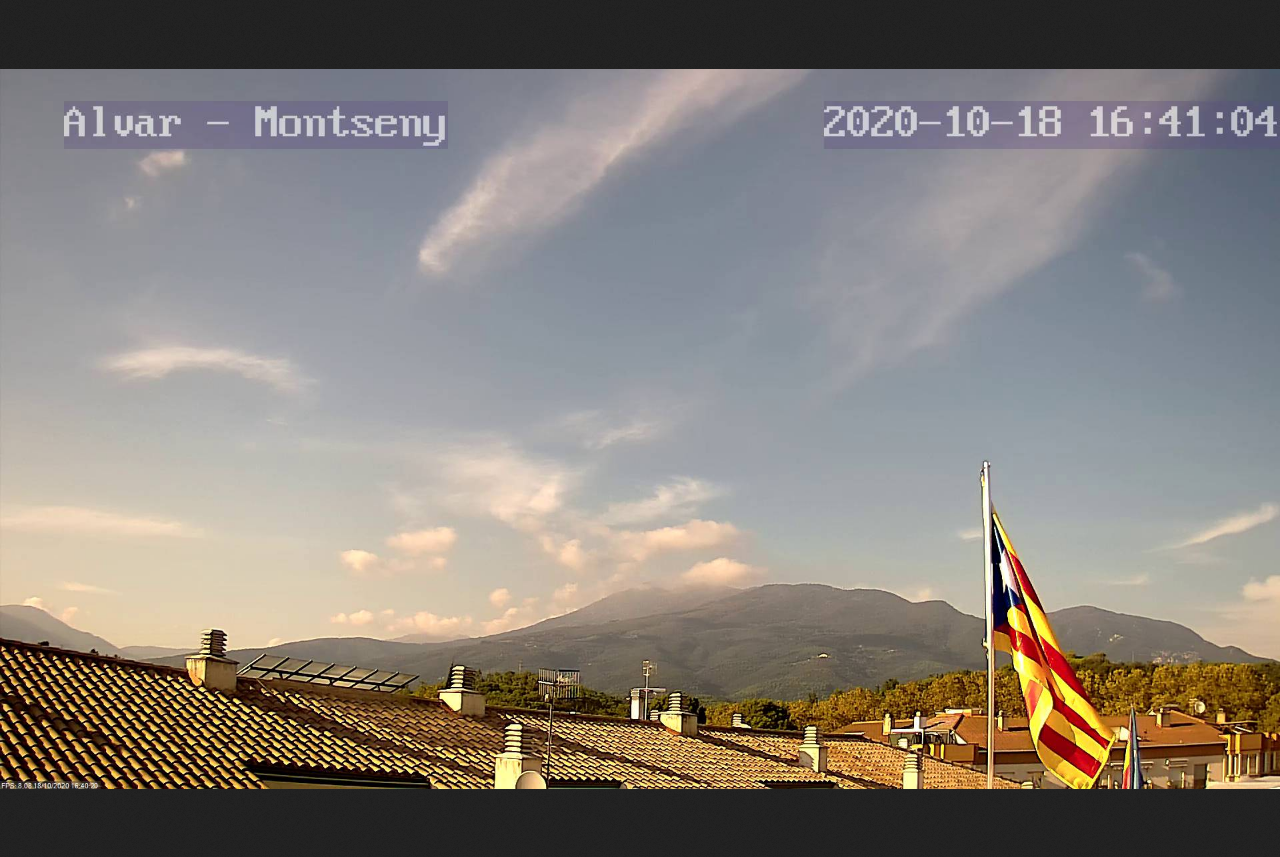no: (967, 443, 1141, 798)
